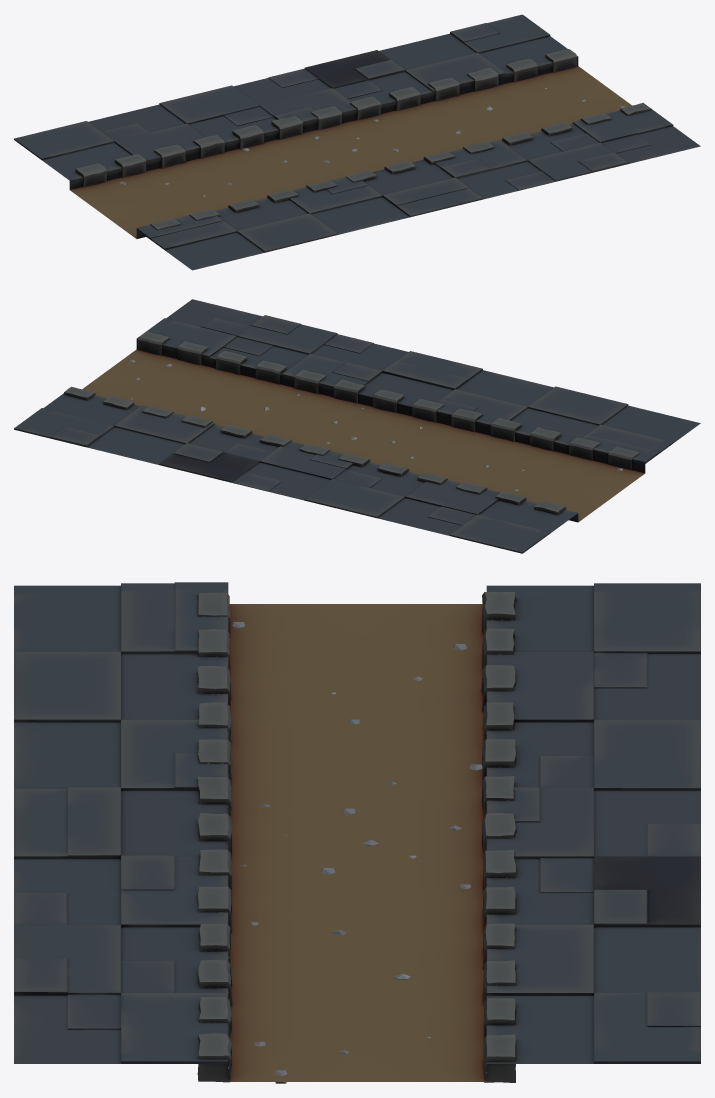
The model's file is yerT2.fbx.
3 views of the same model, one above another, from view 1: azimuth 30°, elevation 25°; view 2: azimuth 150°, elevation 25°; view 3: azimuth 270°, elevation 25° (orthographic). The views are drawn at different scales.
Parts seen in each view (by area): view 1: Plane.003; view 2: Plane.003; view 3: Plane.003.
Boxes of the visible parts, x1,y1,x2,y2 form: Plane.003: (14, 14, 700, 270); Plane.003: (14, 299, 700, 553); Plane.003: (14, 582, 700, 1083).
Size of the model in its own units: 2197 by 77.43 by 1335.
1 material, 1 textured.
